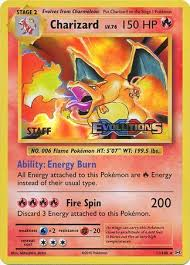charizard: (63, 40, 166, 141)
